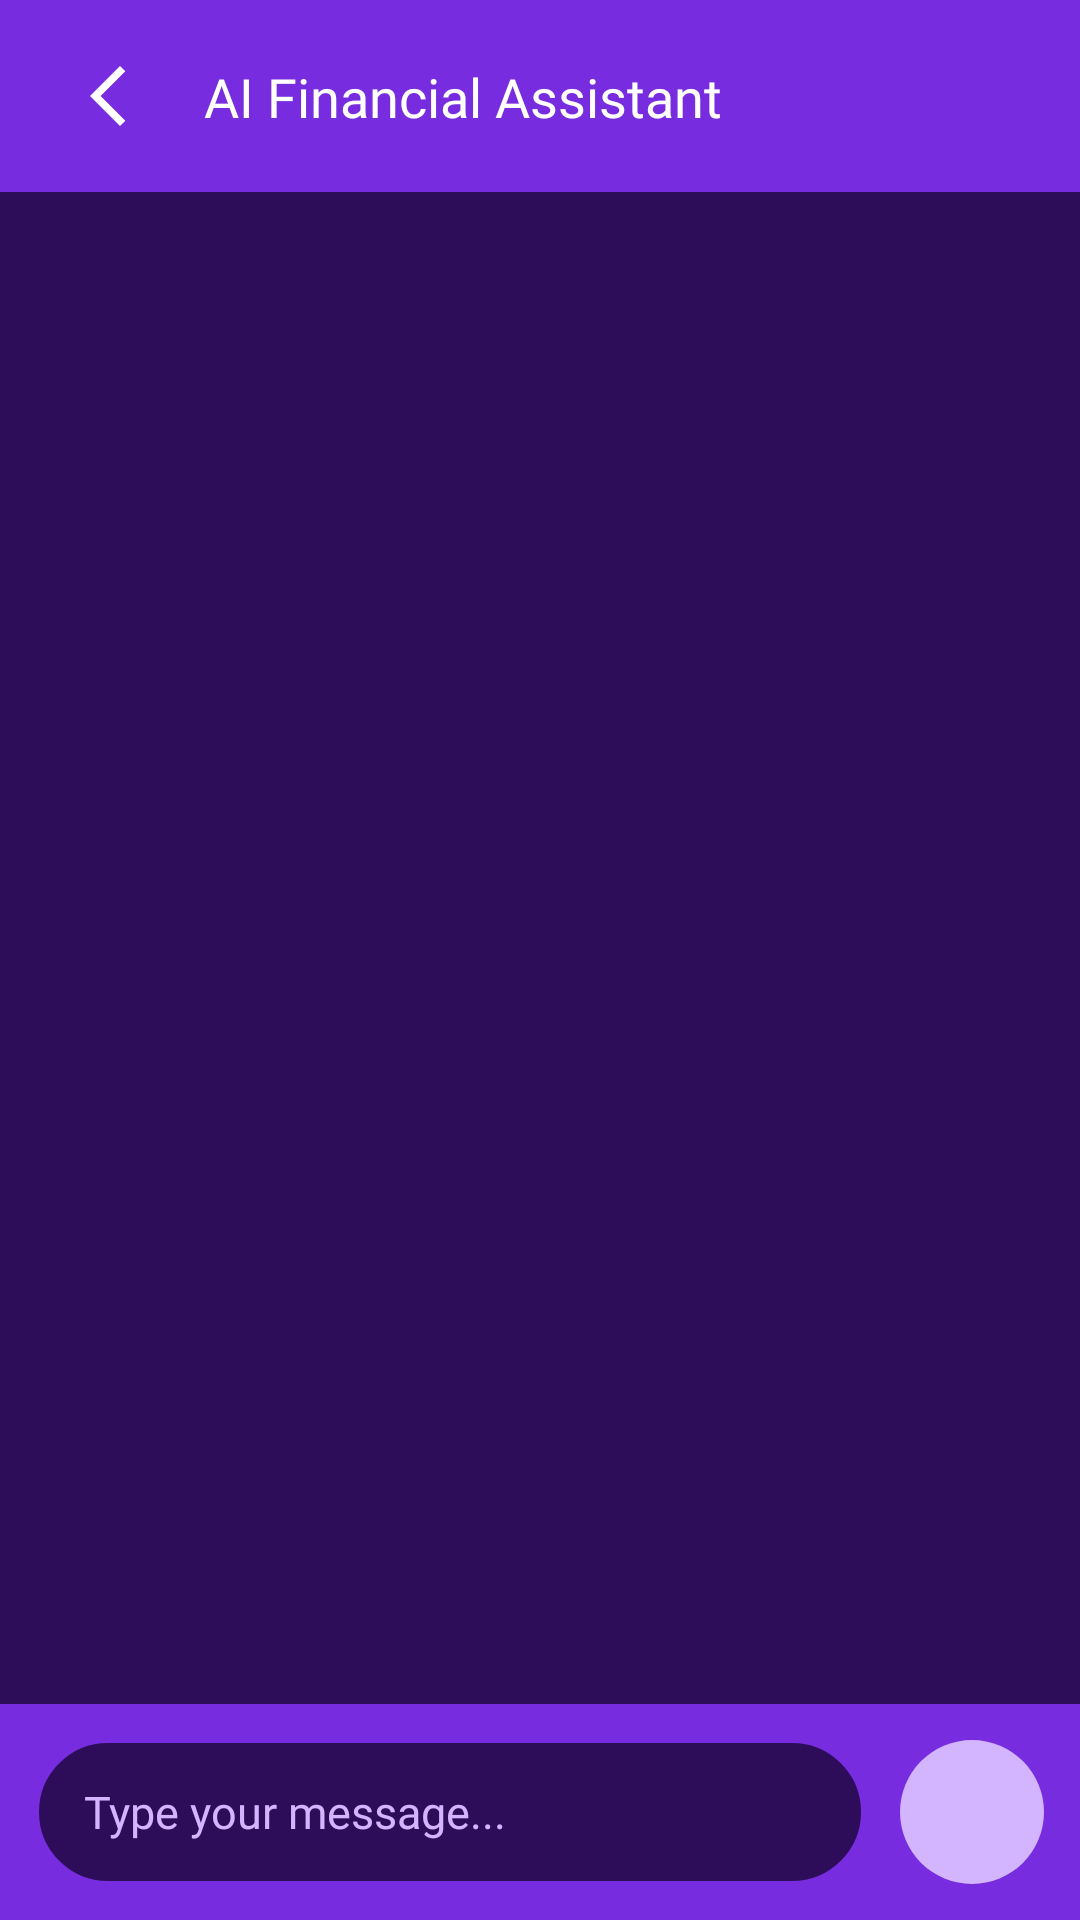

Named icons in this screenshot (1080*1920) and their bounding boxes, (x1=x1, y1=y1, x2=x2, y2=y2):
back: (x1=90, y1=66, x2=125, y2=126)
